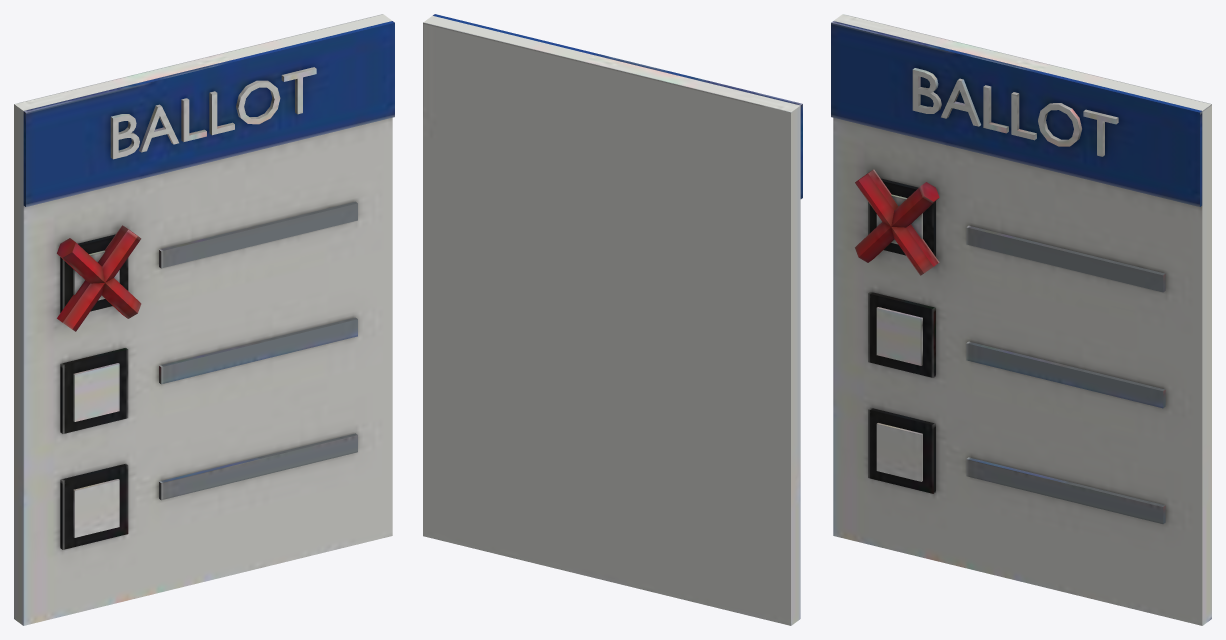
Rendered from papeleta.glb.
3 renders of one model, left to right at view 1: azimuth 30°, elevation 25°; view 2: azimuth 150°, elevation 25°; view 3: azimuth 330°, elevation 25°, orthographic.
Parts seen in each view (by area): view 1: papeleta; view 2: papeleta; view 3: papeleta.
Boxes of the visible parts, left/top/right/bottom form: papeleta: left=14, top=14, right=394, bottom=625; papeleta: left=423, top=14, right=802, bottom=625; papeleta: left=831, top=14, right=1211, bottom=625.
Bounding box in the file's own units: 0.9 × 1.2 × 0.09.
1 material, 1 textured.
